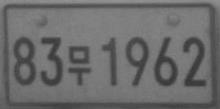1: (99, 36, 123, 86)
2: (182, 35, 207, 86)
3: (39, 36, 64, 87)
6: (153, 36, 178, 87)
8: (11, 36, 37, 86)
9: (123, 36, 149, 87)
무: (68, 45, 91, 86)
